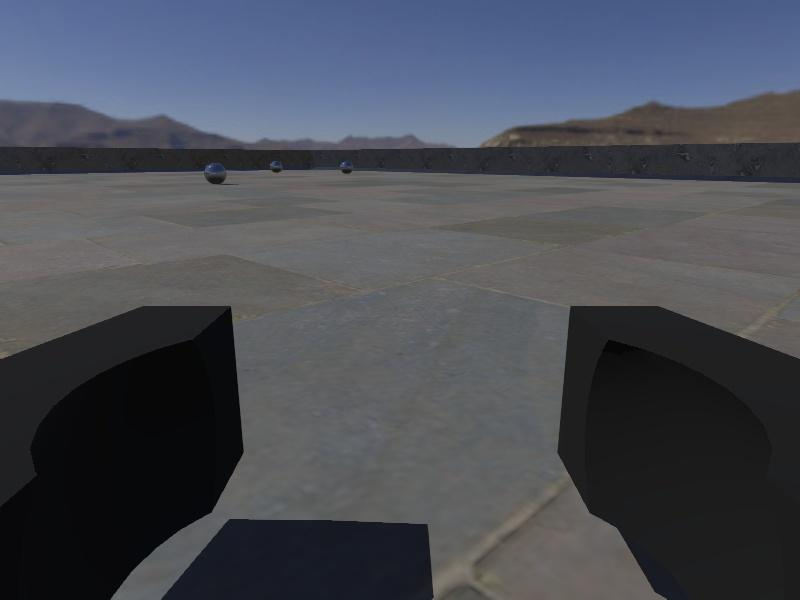steel ball: (203, 162, 228, 185), (339, 159, 354, 174), (268, 160, 283, 173)
